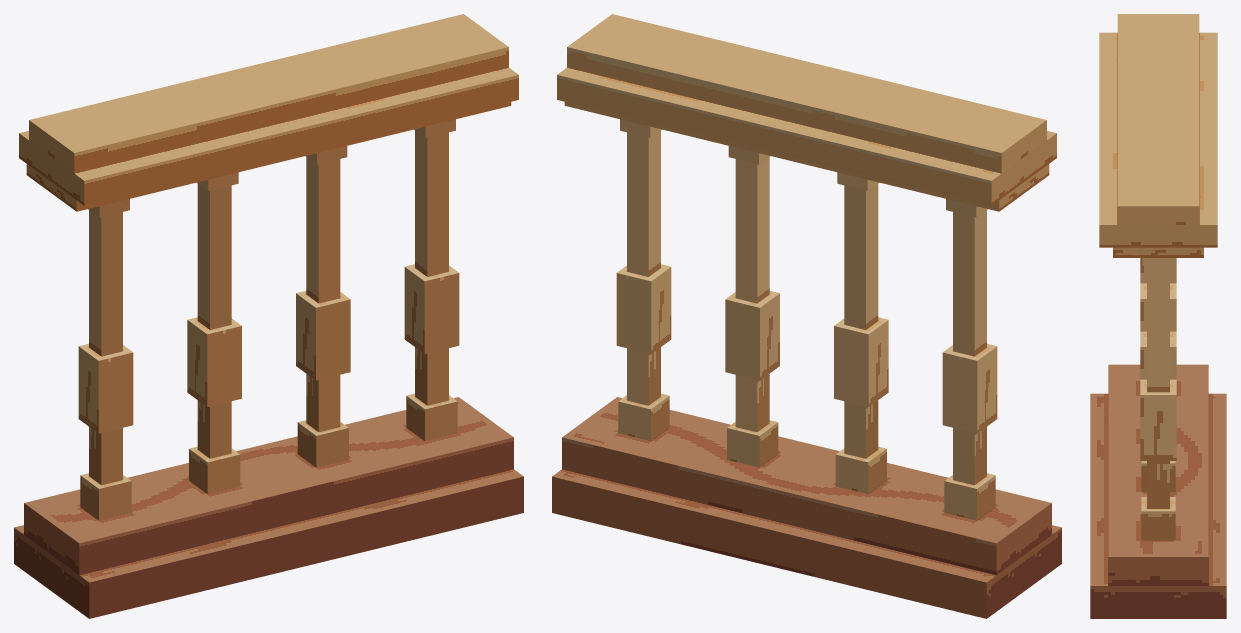
Rendered from rail.gltf.
The picture shows the model from 3 angles, left to right: view 1: azimuth 30°, elevation 25°; view 2: azimuth 150°, elevation 25°; view 3: azimuth 270°, elevation 25°; orthographic projection. The views are drawn at different scales.
Visible parts, largest first — view 1: bottom_rail, handrail_cap, plinth, handrail, baluster2_shaft, baluster3_shaft, baluster1_shaft, baluster4_shaft, baluster1_bulb, baluster4_bulb, baluster2_bulb, baluster3_bulb (+5 smaller); view 2: bottom_rail, handrail_cap, plinth, handrail, baluster2_shaft, baluster3_shaft, baluster1_shaft, baluster4_shaft, baluster1_bulb, baluster4_bulb, baluster2_bulb, baluster3_bulb (+5 smaller); view 3: handrail_cap, bottom_rail, plinth, handrail, baluster4_shaft, baluster4_bulb, baluster4_base, handrail_lip, baluster2_bulb, baluster3_bulb, baluster3_base, baluster1_bulb (+1 smaller).
Part boxes in pixels (x1,y1,x2,y2): bottom_rail: (24, 397, 513, 575); handrail_cap: (29, 14, 508, 173); plinth: (14, 469, 523, 618); handrail: (19, 67, 518, 205); baluster2_shaft: (197, 183, 231, 458); baluster3_shaft: (306, 157, 340, 431); baluster1_shaft: (89, 210, 122, 485); baluster4_shaft: (415, 130, 448, 405); baluster1_bulb: (78, 343, 133, 433); baluster4_bulb: (404, 264, 459, 353); baluster2_bulb: (187, 317, 241, 406); baluster3_bulb: (296, 291, 350, 380); bottom_rail: (562, 397, 1051, 575); handrail_cap: (567, 14, 1046, 173); plinth: (552, 469, 1061, 618); handrail: (557, 67, 1056, 205); baluster2_shaft: (844, 183, 878, 458); baluster3_shaft: (735, 157, 769, 431); baluster1_shaft: (953, 210, 986, 485); baluster4_shaft: (627, 130, 660, 405); baluster1_bulb: (942, 343, 997, 433); baluster4_bulb: (616, 264, 671, 353); baluster2_bulb: (834, 317, 888, 406); baluster3_bulb: (725, 291, 779, 380); handrail_cap: (1117, 14, 1199, 224); bottom_rail: (1108, 364, 1208, 585); plinth: (1090, 393, 1226, 618); handrail: (1099, 32, 1217, 247); baluster4_shaft: (1147, 265, 1169, 508); baluster4_bulb: (1140, 379, 1176, 460); baluster4_base: (1141, 497, 1175, 540); handrail_lip: (1113, 247, 1203, 257); baluster2_bulb: (1140, 283, 1176, 331); baluster3_bulb: (1140, 331, 1176, 379); baluster3_base: (1141, 461, 1175, 492); baluster1_bulb: (1140, 258, 1176, 283).
Bounding box in the file's own units: 1 × 1 × 0.3.
1 material, 1 textured.
